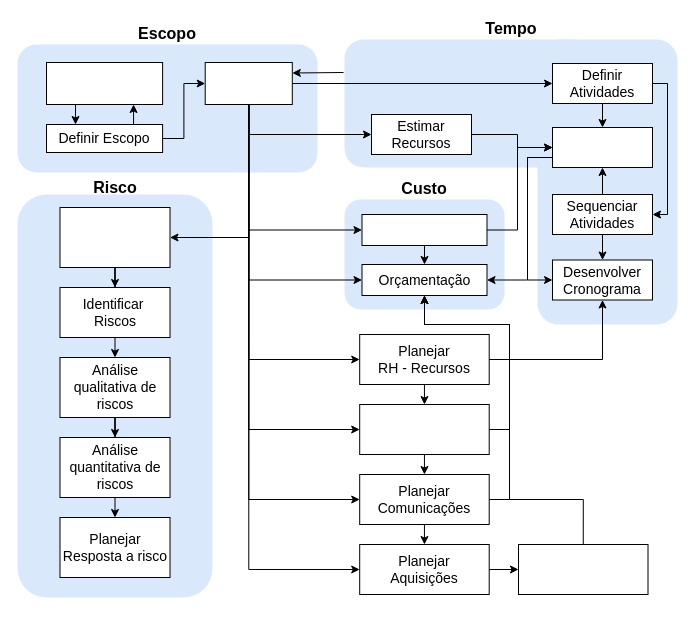
The diagram is 694 pixels wide and 641 high, and some of its shapes have lost their labels. The box of each missing label's shape, as (x1, y1, x2, y2) in pixels:
Criar WBS: (204, 62, 292, 104)
Estimar Custos: (361, 214, 487, 246)
Estimar Duração: (552, 126, 652, 168)
Planejar Contrata ções: (518, 544, 648, 594)
Planejar Escopo: (46, 62, 163, 104)
Planejar Gerenciamento de Risco: (59, 206, 170, 268)
Planejar Qualidade: (359, 404, 489, 454)
